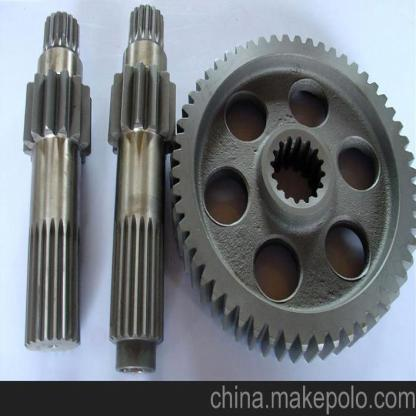FOD: (163, 28, 415, 371), (97, 1, 187, 352), (16, 11, 95, 351)
